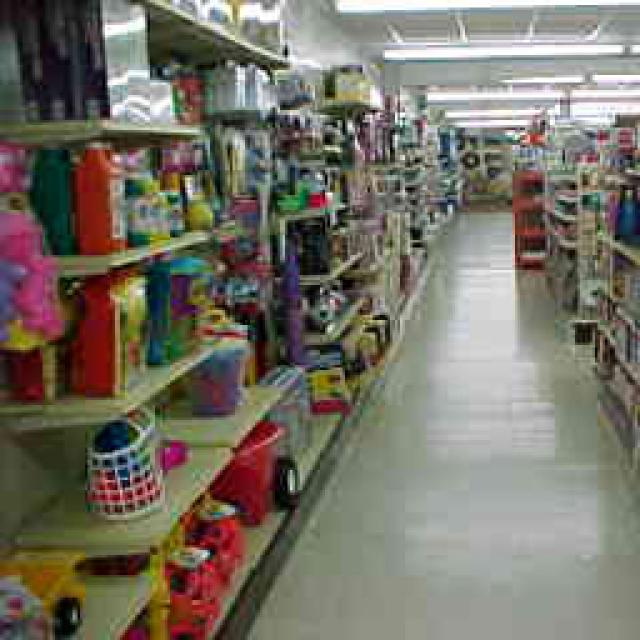ceiling beam: (310, 0, 635, 125)
floor -X: (218, 195, 638, 638)
lamp crop: (380, 42, 635, 60), (425, 88, 562, 98), (442, 108, 535, 120), (570, 85, 635, 98)
shelves crop: (2, 0, 465, 638), (508, 118, 635, 508), (458, 122, 510, 202)
toys: (155, 365, 310, 635), (5, 250, 232, 402), (20, 140, 208, 250), (2, 0, 152, 120)
